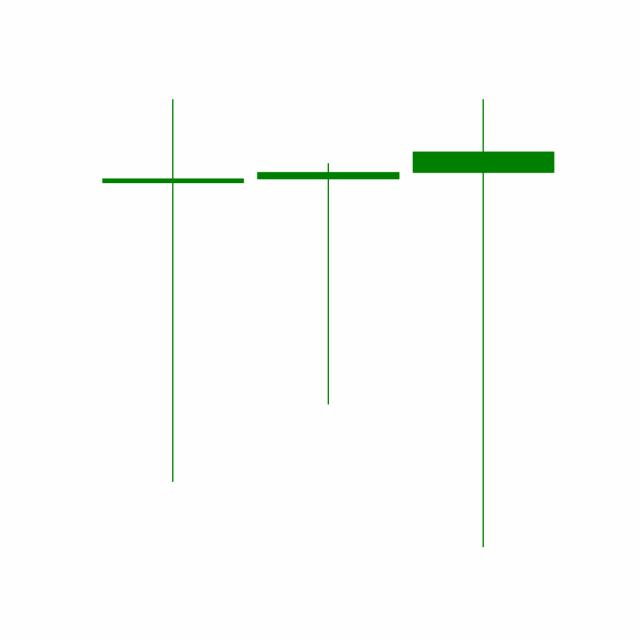Spinning Top: (249, 160, 406, 408)
